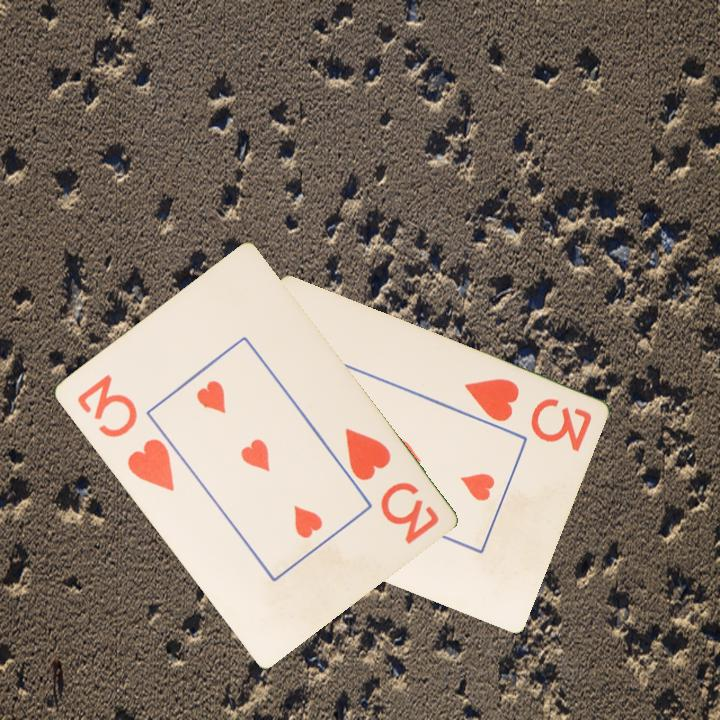3h: (72, 370, 177, 495), (340, 424, 442, 547), (460, 375, 595, 455)
